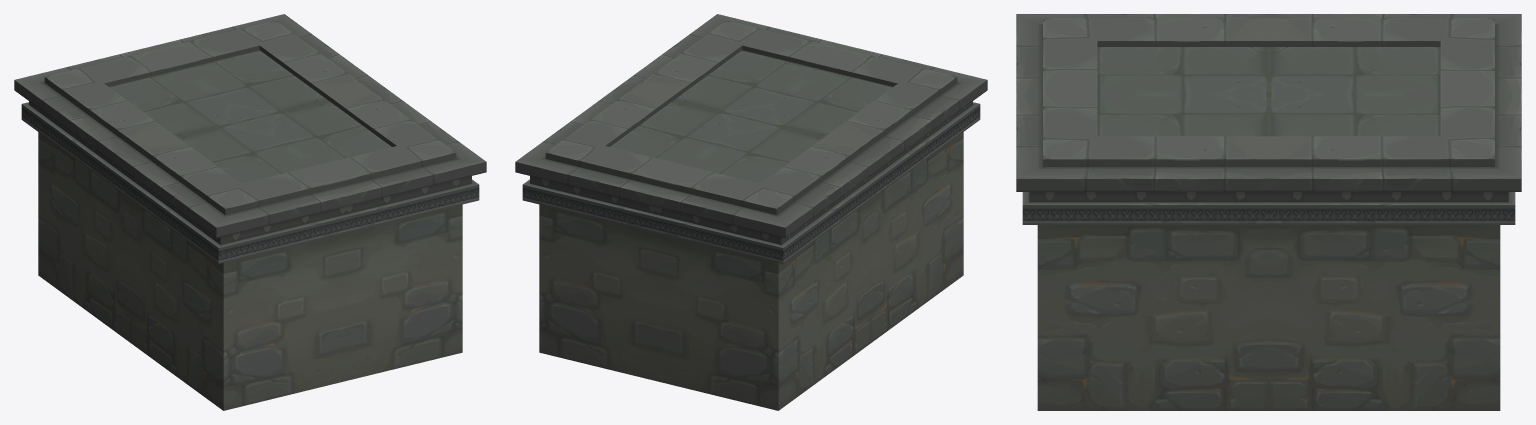
Rendered from sc_dungeon_moshenta_fangzi_001_c03.FBX.
The picture shows the model from 3 angles, left to right: view 1: azimuth 30°, elevation 25°; view 2: azimuth 150°, elevation 25°; view 3: azimuth 270°, elevation 25°; orthographic projection. The views are drawn at different scales.
Visible parts, largest first — view 1: sc_dungeon_moshenta_fangzi_001_c03; view 2: sc_dungeon_moshenta_fangzi_001_c03; view 3: sc_dungeon_moshenta_fangzi_001_c03.
Boxes of the visible parts, bbox=[...] form: sc_dungeon_moshenta_fangzi_001_c03: bbox=[14, 14, 486, 410]; sc_dungeon_moshenta_fangzi_001_c03: bbox=[515, 14, 987, 410]; sc_dungeon_moshenta_fangzi_001_c03: bbox=[1016, 14, 1521, 410].
Bounding box in the file's own units: 7.2 × 5.07 × 9.32.
1 material, 1 textured.
